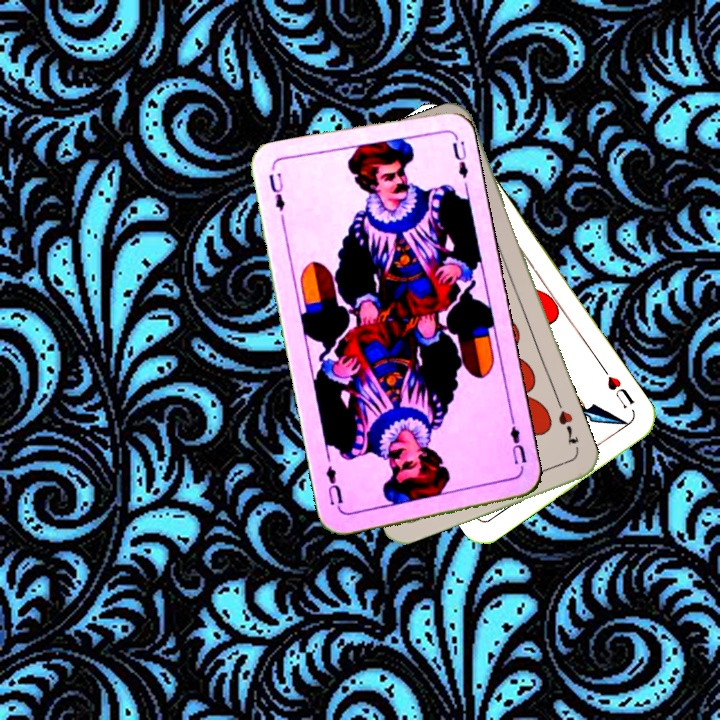EU: (506, 415, 529, 474), (264, 168, 288, 214)
H7: (554, 406, 582, 447)
HU: (597, 363, 638, 412)
